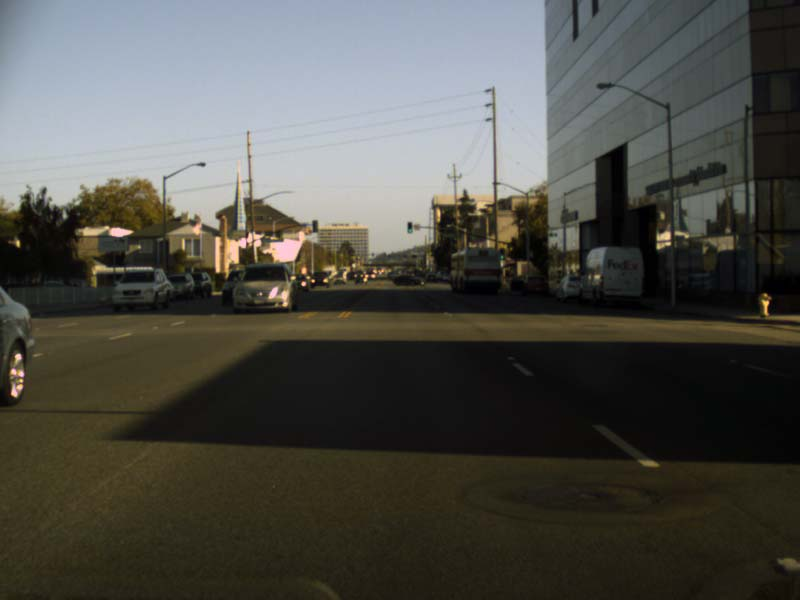Green: (406, 221, 412, 233), (499, 248, 504, 259)
